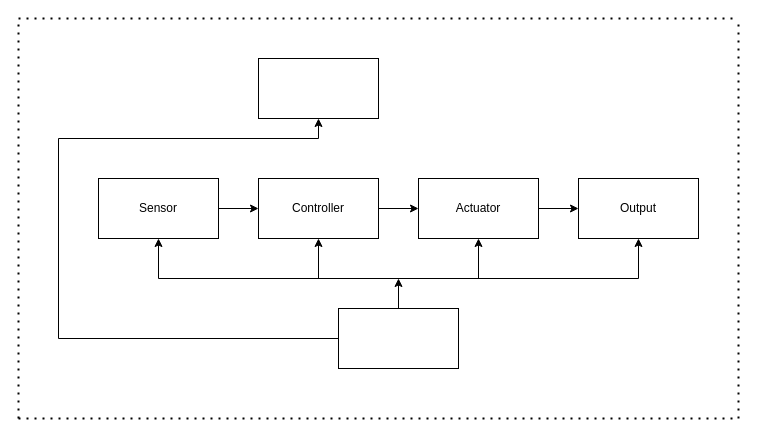
Image size: 757x437. Some labels were removed from this diagram. The shapes that lost their labels are listed below. From the top down, each one's centre as x and y in pixels, then its label:
[318,88]: User Input
[398,338]: Power supply
